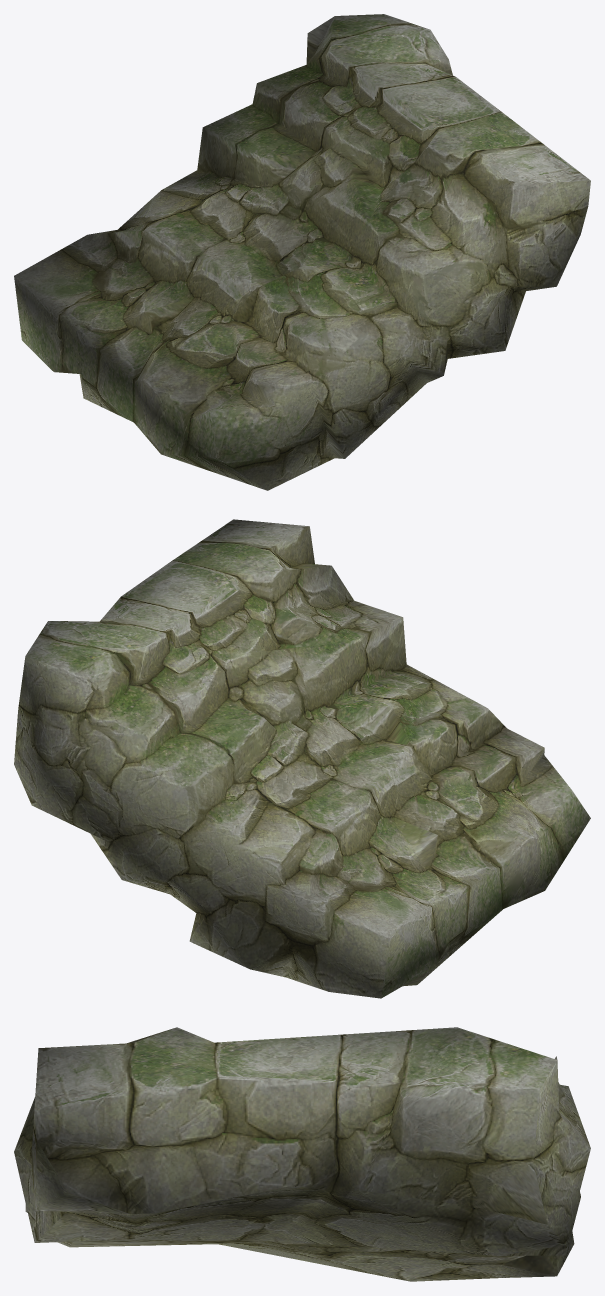
Rendered from GongYong_LouTi_2.fbx.
3 renders of one model, top to bottom at view 1: azimuth 30°, elevation 25°; view 2: azimuth 150°, elevation 25°; view 3: azimuth 270°, elevation 25°, orthographic. The views are drawn at different scales.
Parts seen in each view (by area): view 1: GongYong_LouTi_2; view 2: GongYong_LouTi_2; view 3: GongYong_LouTi_2.
Part boxes in pixels (x1=…): GongYong_LouTi_2: x1=14, y1=14, x2=590, y2=490; GongYong_LouTi_2: x1=14, y1=519, x2=590, y2=998; GongYong_LouTi_2: x1=14, y1=1027, x2=590, y2=1281.
Bounding box in the file's own units: 244 × 170 × 258.
